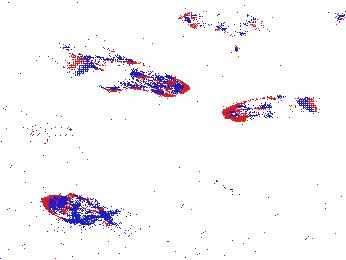X-ray fish: (22, 123, 94, 164), (42, 191, 107, 225), (1, 181, 38, 209)
redtail glassfish: (65, 47, 191, 99), (221, 92, 319, 124), (179, 6, 269, 32)
